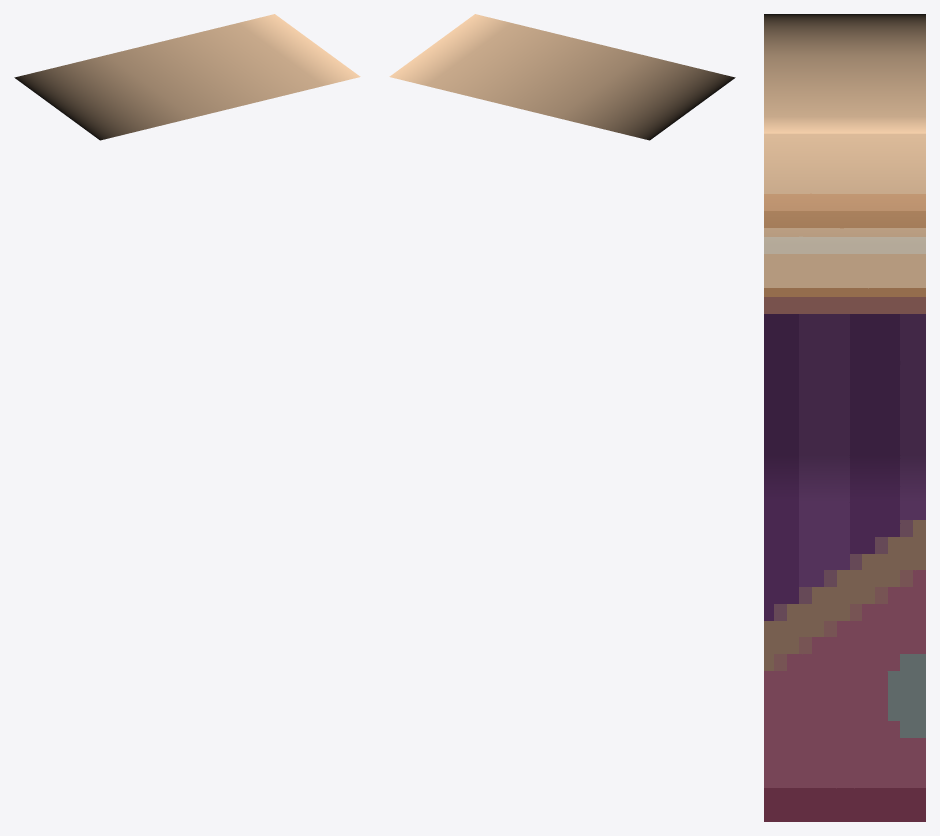
3 renders of one model, left to right at view 1: azimuth 30°, elevation 25°; view 2: azimuth 150°, elevation 25°; view 3: azimuth 270°, elevation 25°, orthographic. The views are drawn at different scales.
Bounding box in the file's own units: 1.75 × 4.75 × 1.
Materials: 3 (3 with a texture image).
